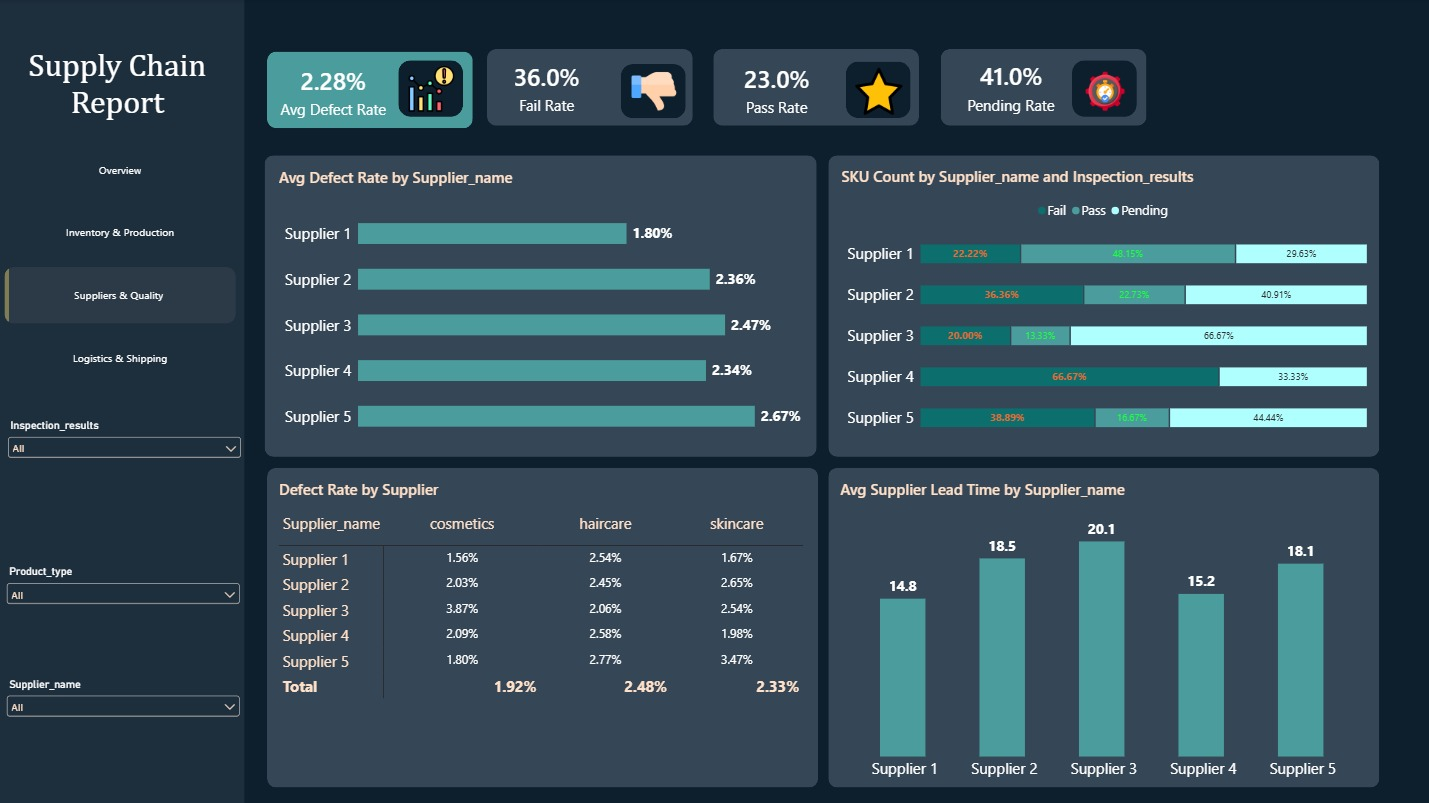

The page's visual inventory and layout, read from the dashboard file:
{"tool":"powerbi","page":{"name":"Suppliers & Quality","canvas":[1920,1080],"ordinal":2},"visuals":[{"type":"group","id":"g1","title":"Group 1","box":[0,2.9,86.9,75.9],"z":0},{"type":"shape","box":[0,2.9,86.9,75.9],"z":0,"group":"g1"},{"type":"shape","box":[537.6,81.4,86.9,75.9],"z":0,"group":"g4"},{"type":"group","id":"g2","title":"Group 1","box":[1440,82.9,86.9,75.9],"z":0,"group":"g7"},{"type":"shape","box":[1440,82.9,86.9,75.9],"z":0,"group":"g2"},{"type":"group","id":"g3","title":"Group 1","box":[1137.1,84.3,86.9,75.9],"z":0,"group":"g6"},{"type":"shape","box":[1137.1,84.3,86.9,75.9],"z":0,"group":"g3"},{"type":"shape","box":[835.7,87.1,87.1,72.9],"z":0,"group":"g5"},{"type":"shape","box":[0,0,331.4,1080],"z":1000},{"type":"shape","box":[362.2,70.3,275.7,102.9],"z":2000},{"type":"shape","box":[657.1,67.1,275.7,102.9],"z":3000},{"type":"shape","box":[1264.3,67.1,275.7,102.9],"z":4000},{"type":"shape","box":[960,67.1,275.7,102.9],"z":5000},{"type":"shape","box":[358.3,210,740,404.3],"z":6000},{"type":"shape","box":[1114.3,628.6,738.6,428.6],"z":7000},{"type":"shape","box":[1114.3,210,738.6,404.3],"z":8000},{"type":"shape","box":[361.4,628.6,738.6,428.6],"z":9000},{"type":"textbox","box":[12.9,67.1,295.7,111.4],"z":10000},{"type":"group","id":"g4","title":"Group 1","box":[537.6,81.4,86.9,75.9],"z":11000},{"type":"group","id":"g5","title":"Group 2","box":[835.7,87.1,87.1,72.9],"z":12000},{"type":"group","id":"g6","title":"Group 3","box":[1137.1,84.3,86.9,75.9],"z":13000},{"type":"group","id":"g7","title":"Group 3","box":[1440,82.9,86.9,75.9],"z":14000},{"type":"card","fields":{"Values":["Measures (2).Avg Defect Rate"]},"box":[363.5,55.7,174.4,136.3],"z":15000},{"type":"card","fields":{"Values":["Measures (2).Fail Rate"]},"box":[657.1,54.3,160,128.6],"z":16000},{"type":"card","fields":{"Values":["Measures (2).Pass Rate"]},"box":[960,67.4,170,107.1],"z":17000},{"type":"card","fields":{"Values":["Measures (2).Pending Rate"]},"box":[1264.9,30.6,188.3,173.3],"z":18000},{"type":"slicer","fields":{"Values":["Status.Inspection_results"]},"box":[10,563.3,321.7,170],"z":19000},{"type":"slicer","fields":{"Values":["Summary_Type.Product_type"]},"box":[8.3,758.3,321.7,170],"z":20000},{"type":"slicer","fields":{"Values":["Fact_table.Supplier_name"]},"box":[8.3,910,321.7,170],"z":21000},{"type":"clusteredBarChart","fields":{"Category":["Fact_table.Supplier_name"],"Y":["Measures (2).Avg Defect Rate"]},"box":[361.6,210.5,736.4,404.7],"z":22000},{"type":"hundredPercentStackedBarChart","fields":{"Category":["Fact_table.Supplier_name"],"Series":["Status.Inspection_results"],"Y":["Measures (2).SKU Count"]},"box":[1115.6,209.2,736.4,404.7],"z":23000},{"type":"pivotTable","title":"Defect Rate by Supplier","fields":{"Columns":["Type.Product_type"],"Rows":["Fact_table.Supplier_name"],"Values":["Measures (2).Avg Defect Rate"]},"box":[362.3,628.8,734.9,341.6],"z":24000},{"type":"columnChart","fields":{"Category":["Fact_table.Supplier_name"],"Y":["Measures (2).Avg Supplier Lead Time"]},"box":[1114.3,628.6,738.6,438.6],"z":25000},{"type":"image","box":[538.2,89.3,89.3,63.4],"z":26000},{"type":"image","box":[835.8,91.9,89.3,63.4],"z":27000},{"type":"image","box":[1137.3,91.9,89.3,63.4],"z":28000},{"type":"image","box":[1440,91.9,89.3,63.4],"z":29000},{"type":"bookmarkNavigator","box":[10.4,190.2,310.5,329.9],"z":30000}]}

Visuals, with their boxes on the page's 1920x1080 design canvas (x1, y1, x2, y2). These are canvas units, not pixel positions in the 1429x803 screenshot, which may show the page scaled, cropped or inside an application window:
"Group 1" group: 0:3:87:79
shape: 0:3:87:79
shape: 538:81:624:157
"Group 1" group: 1440:83:1527:159
shape: 1440:83:1527:159
"Group 1" group: 1137:84:1224:160
shape: 1137:84:1224:160
shape: 836:87:923:160
shape: 0:0:331:1080
shape: 362:70:638:173
shape: 657:67:933:170
shape: 1264:67:1540:170
shape: 960:67:1236:170
shape: 358:210:1098:614
shape: 1114:629:1853:1057
shape: 1114:210:1853:614
shape: 361:629:1100:1057
textbox: 13:67:309:178
"Group 1" group: 538:81:624:157
"Group 2" group: 836:87:923:160
"Group 3" group: 1137:84:1224:160
"Group 3" group: 1440:83:1527:159
card - Measures (2).Avg Defect Rate: 364:56:538:192
card - Measures (2).Fail Rate: 657:54:817:183
card - Measures (2).Pass Rate: 960:67:1130:174
card - Measures (2).Pending Rate: 1265:31:1453:204
slicer - Status.Inspection_results: 10:563:332:733
slicer - Summary_Type.Product_type: 8:758:330:928
slicer - Fact_table.Supplier_name: 8:910:330:1080
clusteredBarChart - Fact_table.Supplier_name x Measures (2).Avg Defect Rate: 362:210:1098:615
hundredPercentStackedBarChart - Fact_table.Supplier_name x Status.Inspection_results: 1116:209:1852:614
"Defect Rate by Supplier" pivotTable: 362:629:1097:970
columnChart - Fact_table.Supplier_name x Measures (2).Avg Supplier Lead Time: 1114:629:1853:1067
image: 538:89:628:153
image: 836:92:925:155
image: 1137:92:1227:155
image: 1440:92:1529:155
bookmarkNavigator: 10:190:321:520
